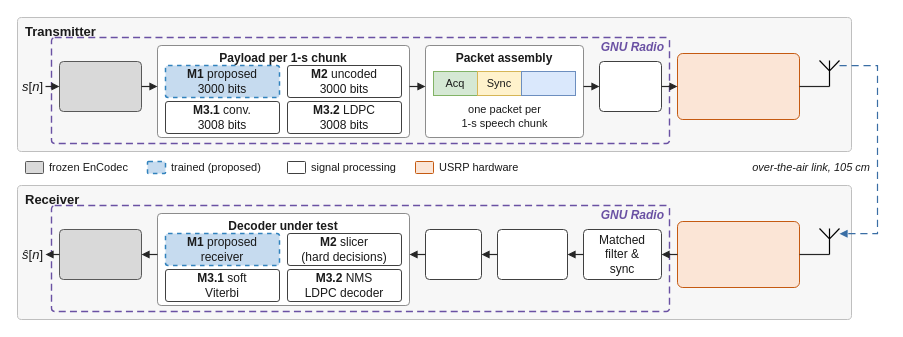
This 903x337 diagram has some shape labels left out. The centre of each missing label's shape, as x and y in pixels:
BPSK ±1: [630,86]
EnCodec decoder: [100,254]
EnCodec encoder: [100,86]
LLRs: [453,254]
Packet detection: [532,254]
Payload: [548,83]
USRP B210 (RX) 868 MHz 1 MHz sampling: [738,254]
USRP B210 (TX) 868 MHz gain 27–39 dB: [738,86]
